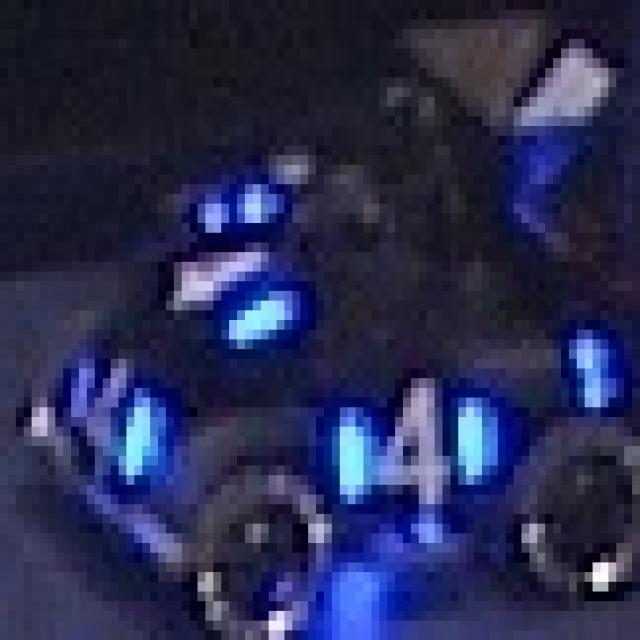B4: (332, 368, 498, 514), (63, 349, 166, 495)
